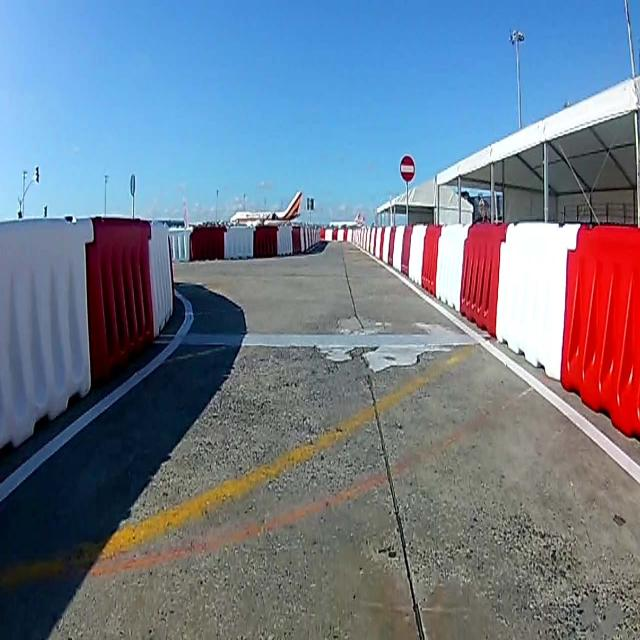girisyok: (399, 153, 415, 181)
